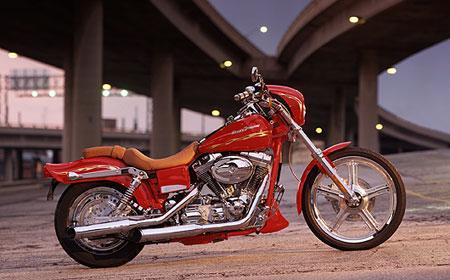motorcycle: (29, 65, 430, 272)
